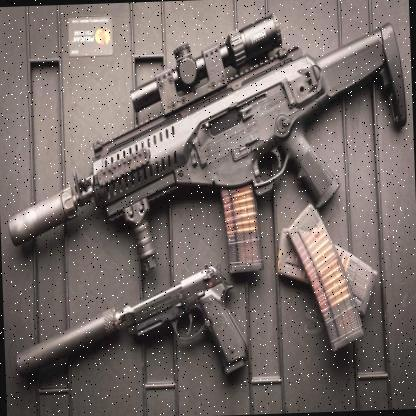rifle: (1, 1, 409, 317), (6, 260, 243, 402)
